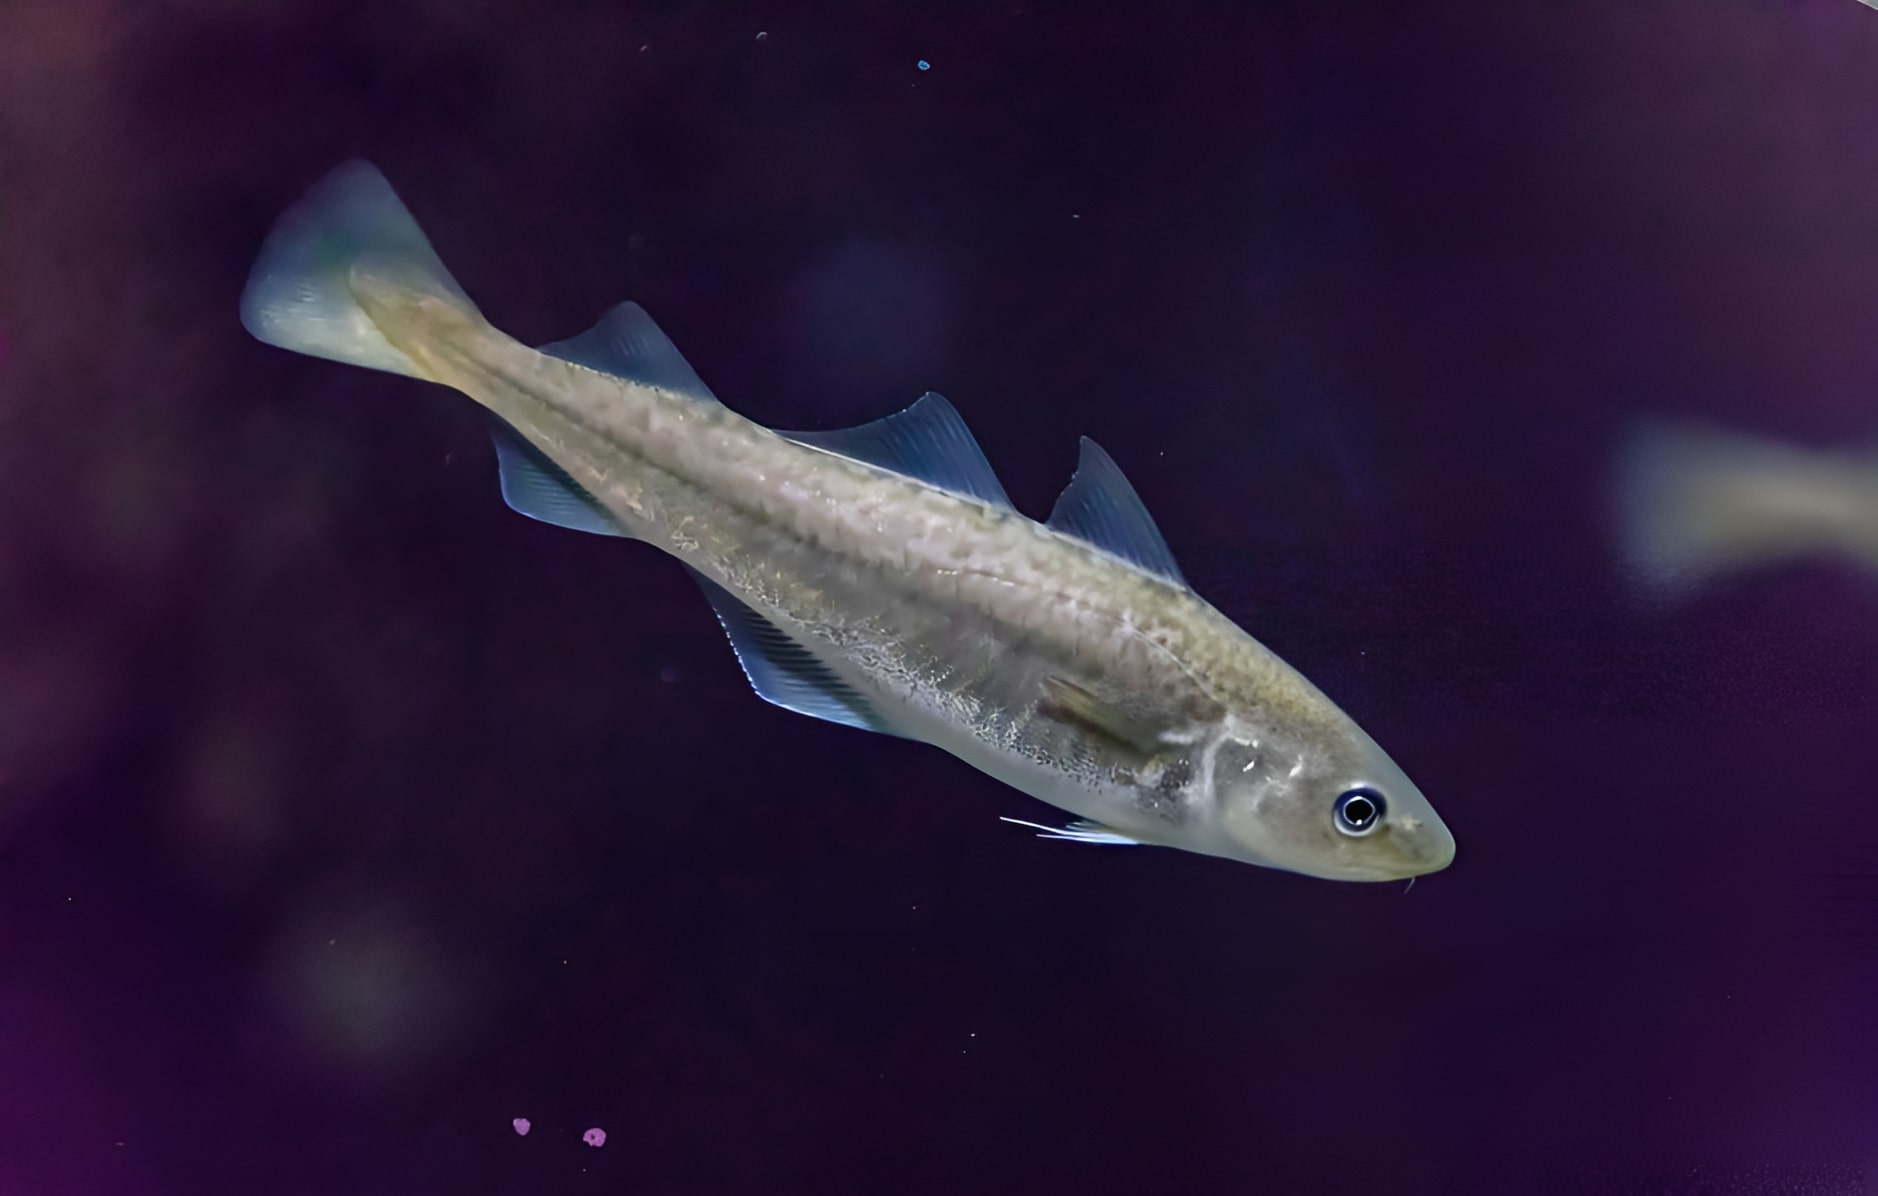Pecific herring: (224, 131, 1462, 898)
